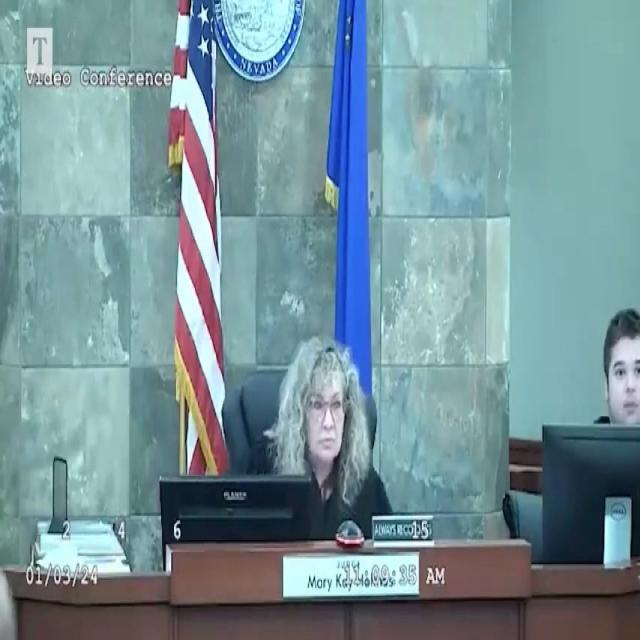non-fight: (242, 328, 380, 539), (594, 294, 640, 425)
